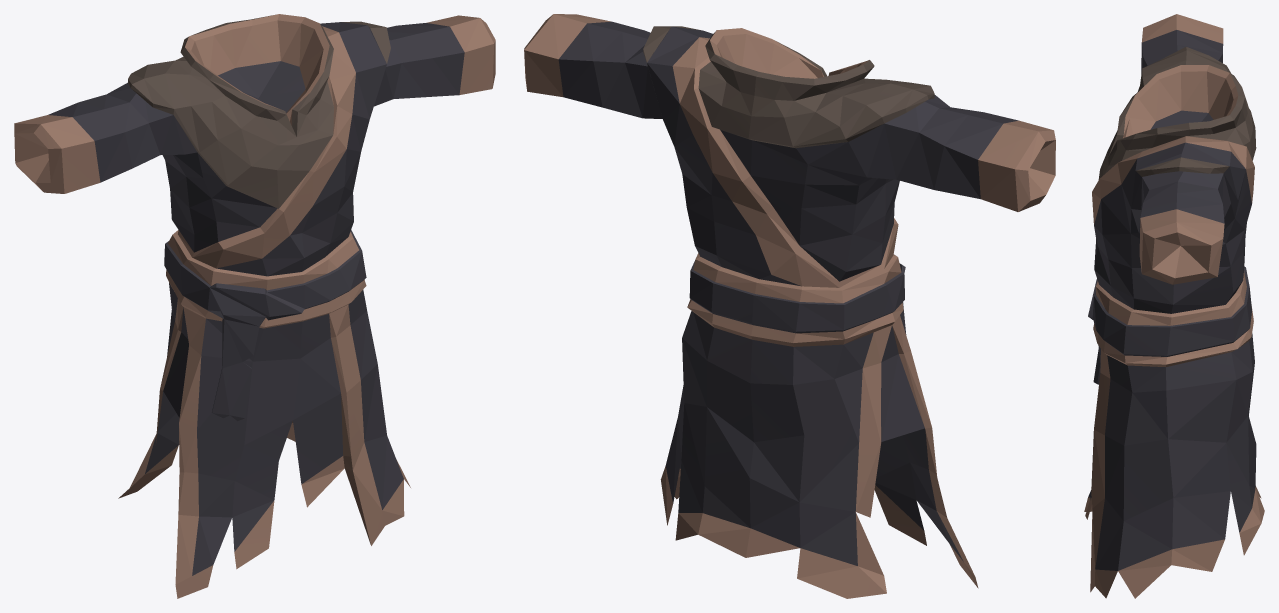
File: armorTatteredRobeDisplay.fbx
3 views of the same model, side by side, from view 1: azimuth 30°, elevation 25°; view 2: azimuth 150°, elevation 25°; view 3: azimuth 270°, elevation 25° (orthographic). The views are drawn at different scales.
Visible parts, largest first — view 1: armorTatteredRobeDisplay; view 2: armorTatteredRobeDisplay; view 3: armorTatteredRobeDisplay.
Boxes of the visible parts, x1,y1,x2,y2 form: armorTatteredRobeDisplay: [14, 14, 495, 598]; armorTatteredRobeDisplay: [524, 14, 1055, 598]; armorTatteredRobeDisplay: [1084, 14, 1264, 598].
Size of the model in its own units: 1.77 by 1.83 by 0.627.
